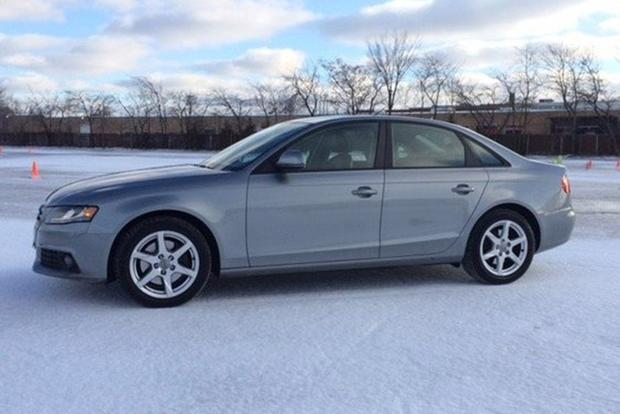car: (29, 112, 574, 308)
